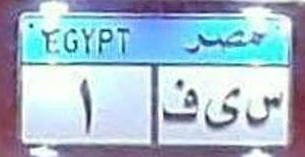1: (75, 78, 98, 137)
faa: (162, 79, 201, 122)
seen: (243, 90, 285, 129)
yaa: (203, 87, 241, 130)
